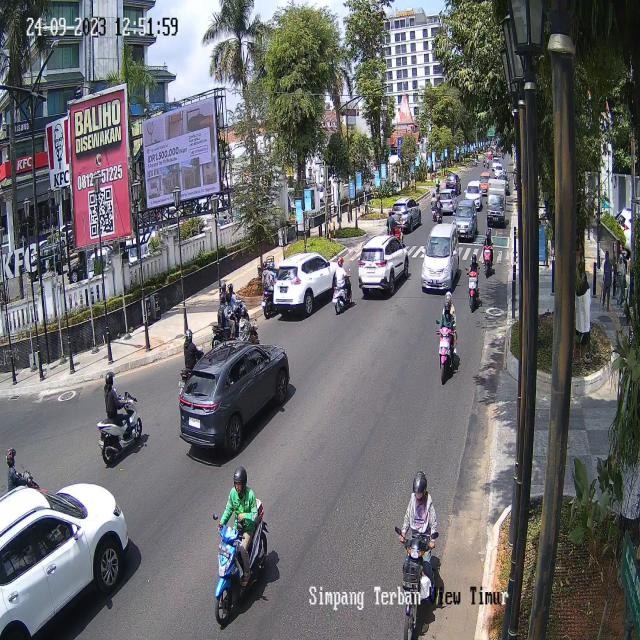car: (1, 482, 133, 639), (178, 340, 292, 458), (271, 254, 342, 318), (358, 235, 410, 297), (422, 220, 459, 294), (454, 198, 477, 242), (393, 196, 421, 232)
motorcycle: (210, 463, 270, 623), (392, 462, 437, 638), (99, 368, 142, 466), (435, 289, 459, 382), (8, 437, 40, 491), (178, 323, 203, 391), (210, 290, 240, 346), (221, 278, 250, 325), (333, 252, 352, 320), (260, 258, 280, 322), (464, 248, 479, 318), (238, 305, 260, 345), (482, 227, 492, 282)
truck: (486, 177, 506, 223)
